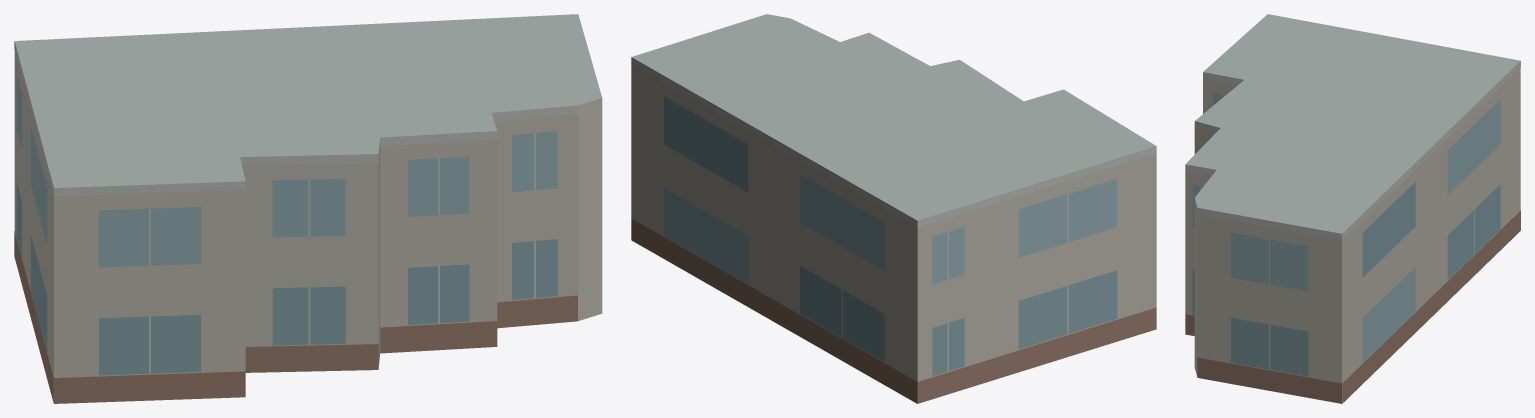
The model's file is survey-upis-32686054.glb.
3 renders of one model, left to right at view 1: azimuth 30°, elevation 25°; view 2: azimuth 150°, elevation 25°; view 3: azimuth 270°, elevation 25°, orthographic. The views are drawn at different scales.
Parts seen in each view (by area): view 1: survey-upis-32686054.tmp; view 2: survey-upis-32686054.tmp; view 3: survey-upis-32686054.tmp.
Boxes of the visible parts, x1=… form: survey-upis-32686054.tmp: x1=14, y1=14, x2=602, y2=403; survey-upis-32686054.tmp: x1=631, y1=14, x2=1156, y2=403; survey-upis-32686054.tmp: x1=1185, y1=14, x2=1520, y2=403.
Bounding box in the file's own units: 16.92 × 6.1 × 10.92.
